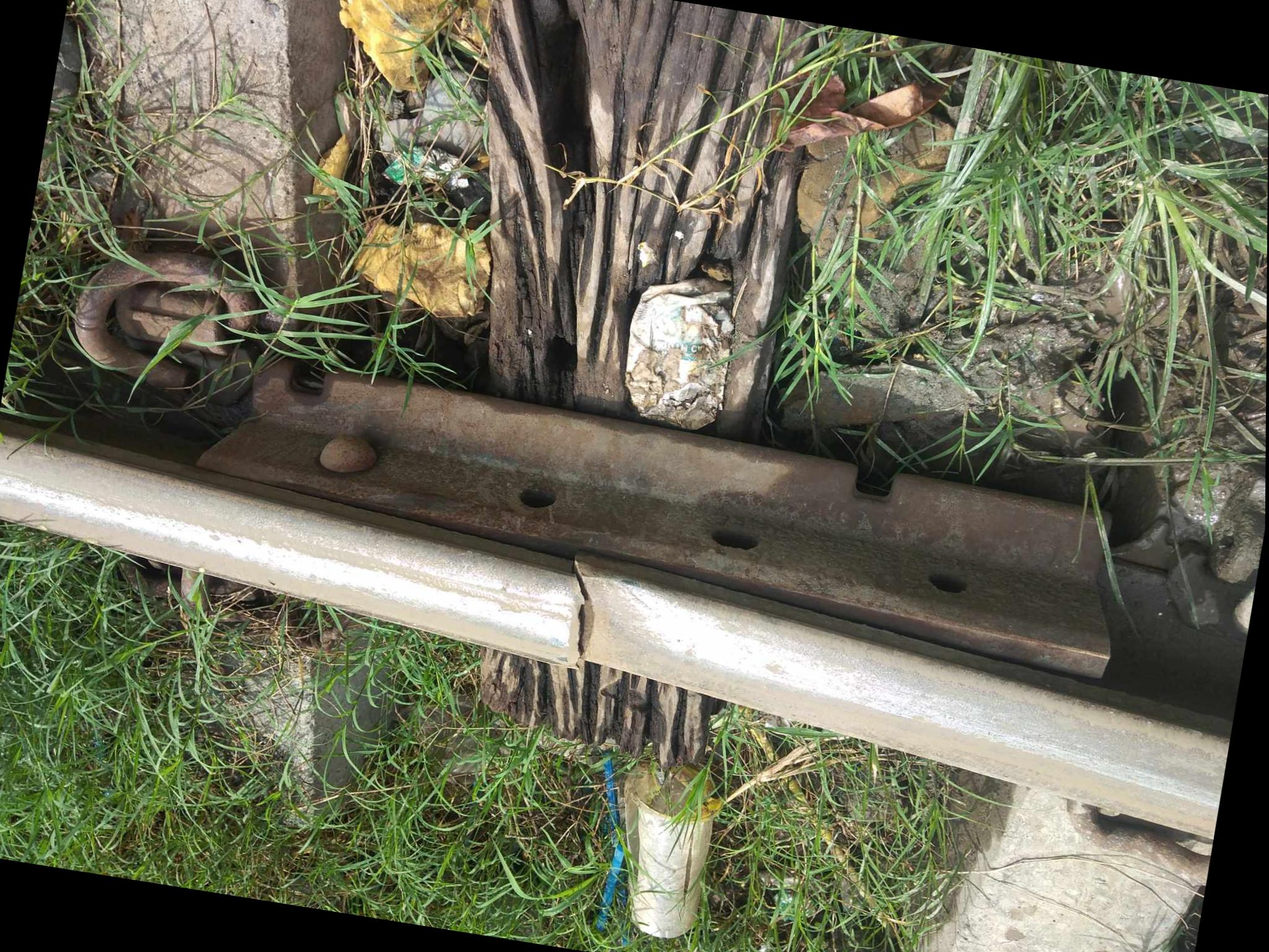person: (478, 509, 685, 712)
